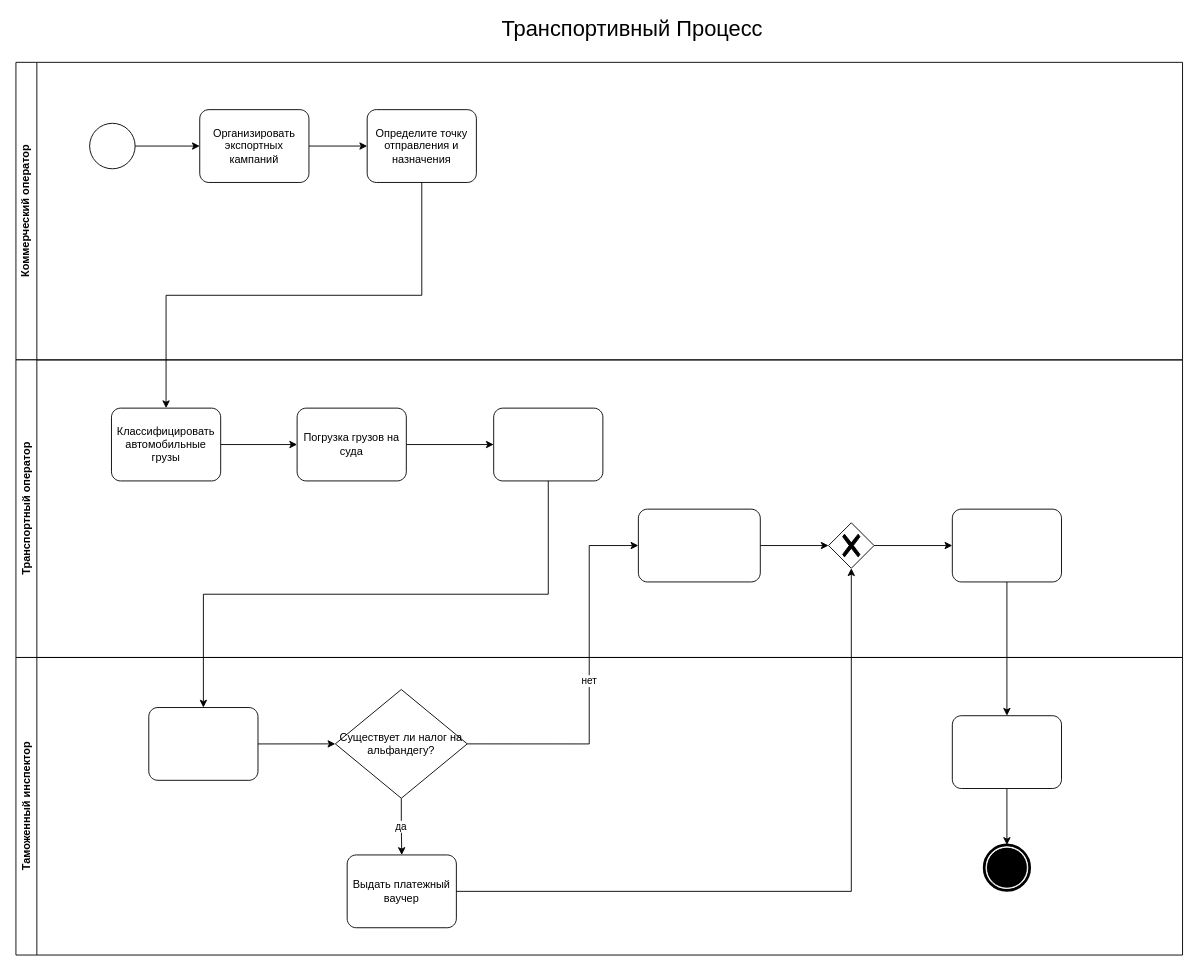
Some shapes in this 1198 by 971 pixel diagram are drawn without their labels. The shapes that lost their labels are listed below. From the top down, each one's centre as x and y in pixels, then its label:
At (548,444): "Прохождение досмотра на таможенном посту".
At (698,545): "Подписать договор об освобождении от уплаты таможенных платежей".
At (1006,545): "Произвести оплату".
At (203,743): "Проверка товаров и места назначения".
At (1006,752): "Освободить груз для транспортировки".
